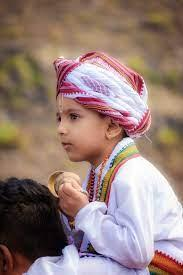Human: (30, 35, 178, 270)
